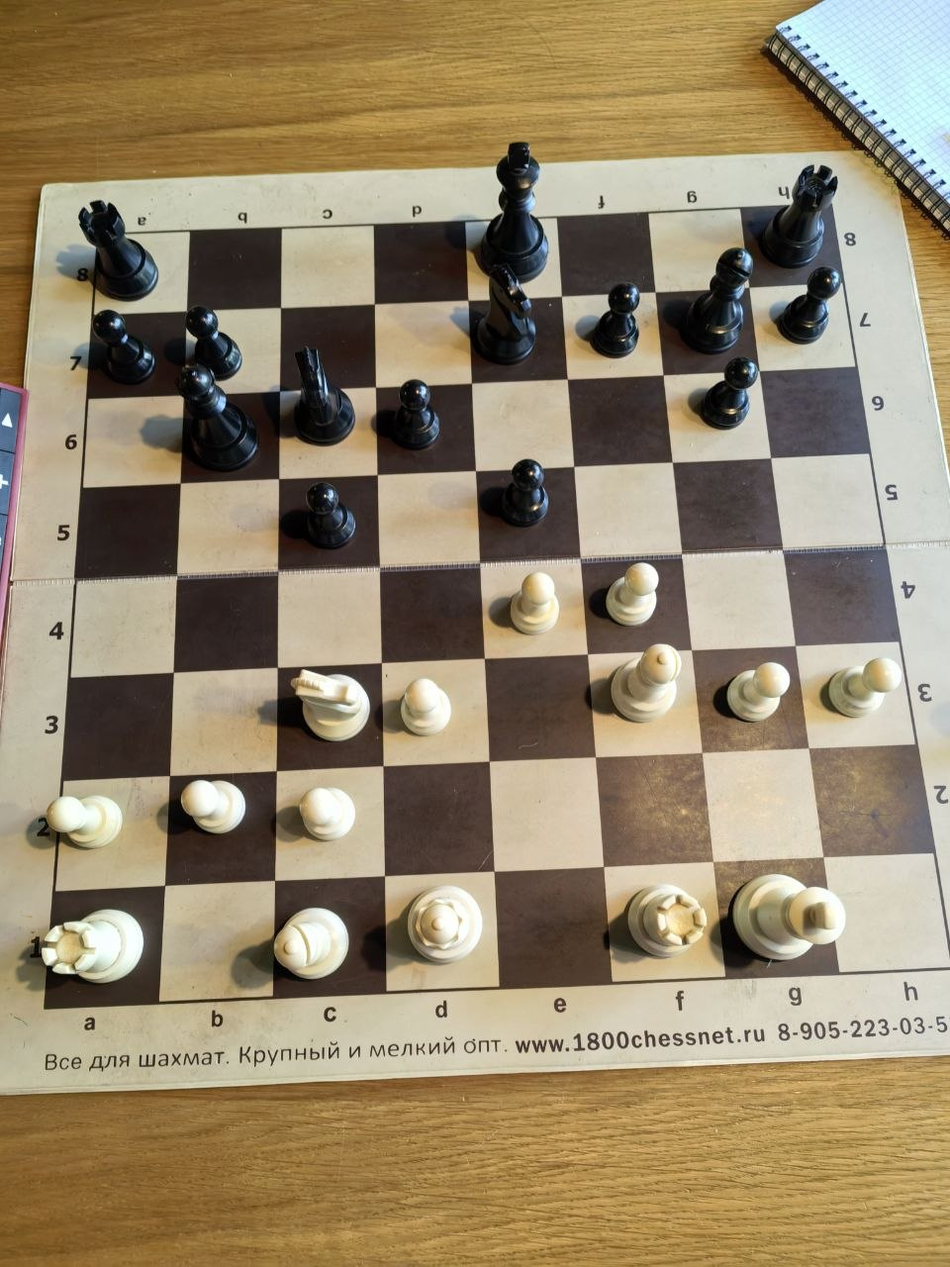black-bishop: (484, 646, 561, 748), (580, 646, 656, 748), (390, 773, 466, 874), (674, 773, 750, 874), (770, 773, 846, 874), (104, 900, 180, 1001), (200, 900, 276, 1001), (294, 900, 370, 1001)
black-king: (294, 1026, 370, 1128), (580, 773, 656, 874)
black-knight: (390, 1026, 466, 1128)
black-pawn: (104, 1026, 180, 1128), (580, 1026, 656, 1128)
black-queen: (674, 1026, 750, 1128)
black-rook: (294, 773, 370, 874)
white-bishop: (484, 519, 561, 621), (294, 519, 370, 621), (104, 266, 180, 367), (200, 266, 276, 367), (580, 266, 656, 367), (770, 266, 846, 367), (390, 393, 466, 494), (674, 393, 750, 494)
white-king: (674, 266, 750, 367)
white-knight: (200, 393, 276, 494)
white-pawn: (104, 139, 180, 241), (770, 139, 846, 241)
white-queen: (484, 139, 561, 241)
white-rook: (484, 266, 561, 367), (294, 393, 370, 494)
